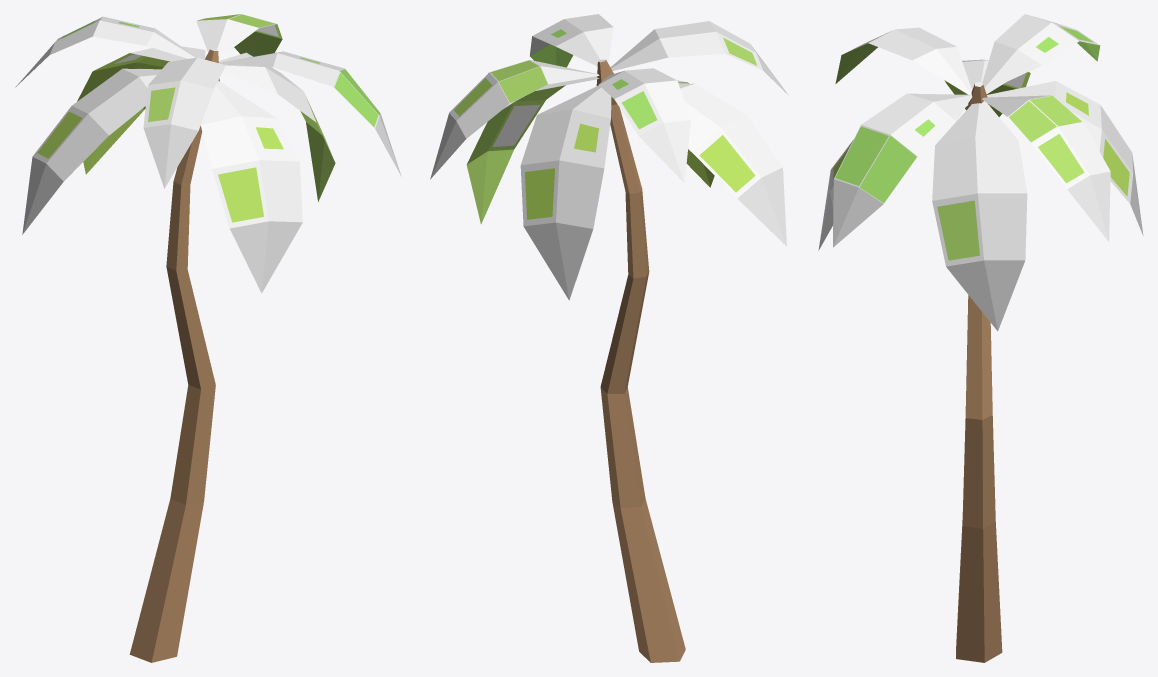
The model's file is Palm_Tree_m_Snow_04.fbx.
3 renders of one model, left to right at view 1: azimuth 30°, elevation 25°; view 2: azimuth 150°, elevation 25°; view 3: azimuth 270°, elevation 25°, orthographic. The views are drawn at different scales.
Visible parts, largest first — view 1: Palm_Tree_m_Snow_04; view 2: Palm_Tree_m_Snow_04; view 3: Palm_Tree_m_Snow_04.
Boxes of the visible parts, x1=… form: Palm_Tree_m_Snow_04: x1=15, y1=14, x2=401, y2=662; Palm_Tree_m_Snow_04: x1=430, y1=14, x2=788, y2=662; Palm_Tree_m_Snow_04: x1=818, y1=14, x2=1143, y2=662.
Bounding box in the file's own units: 319 × 600 × 284.
